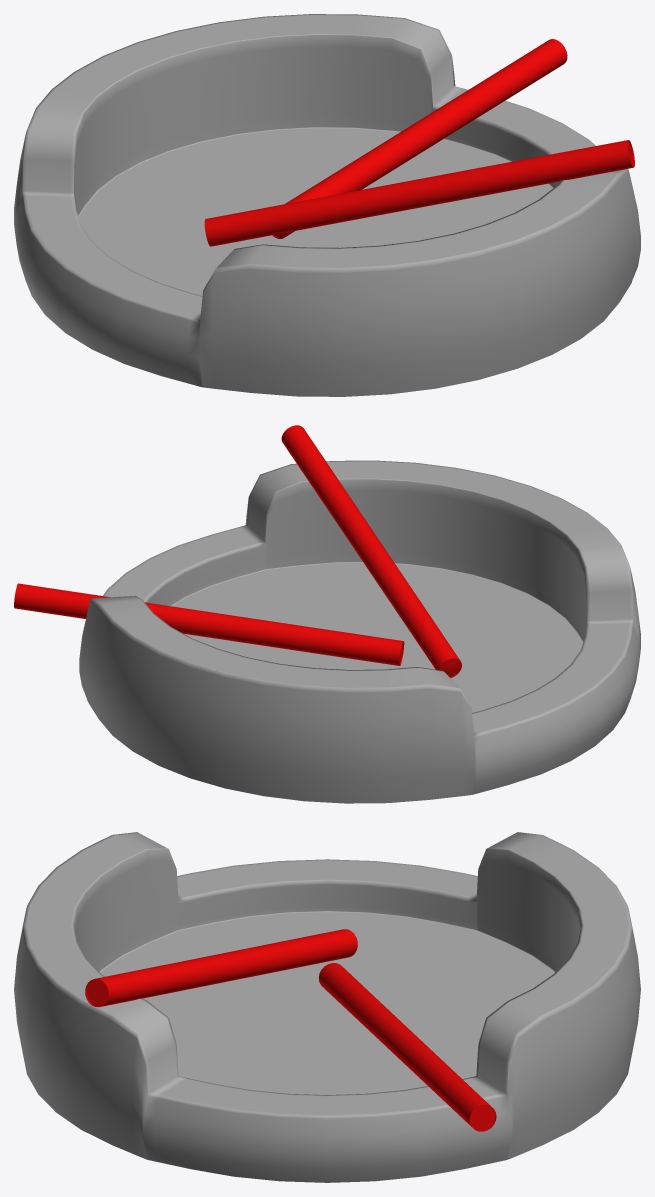
File: AshTrayCigarette.fbx
3 views of the same model, one above another, from view 1: azimuth 30°, elevation 25°; view 2: azimuth 150°, elevation 25°; view 3: azimuth 270°, elevation 25° (orthographic). The views are drawn at different scales.
Visible parts, largest first — view 1: pCylinder17; view 2: pCylinder17; view 3: pCylinder17.
Part boxes in pixels (x1,y1,x2,y2): pCylinder17: [14, 14, 640, 396]; pCylinder17: [14, 425, 640, 803]; pCylinder17: [14, 832, 640, 1182].
Bounding box in the file's own units: 15.21 × 4.15 × 14.13.
